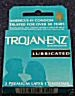grozi_102: (0, 6, 74, 96)
